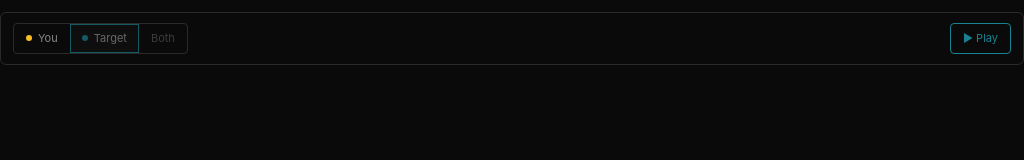
it: ReplayBar › play button is disabled when current mode has no buffer; enabled after switching to a mode with a buffer
Expected: the button "▶ Play" is disabled, [950, 23, 1011, 54]
Click the button "You". click: point(42, 38)
box: [14, 24, 70, 52]
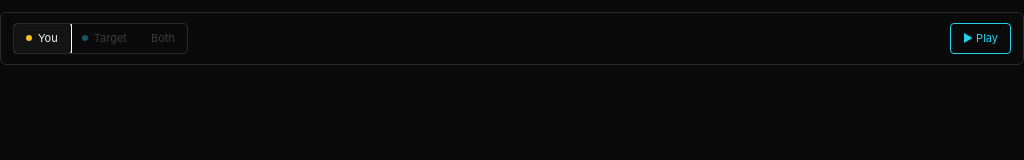
Result: the button "▶ Play" is enabled at [950, 23, 1011, 54]
